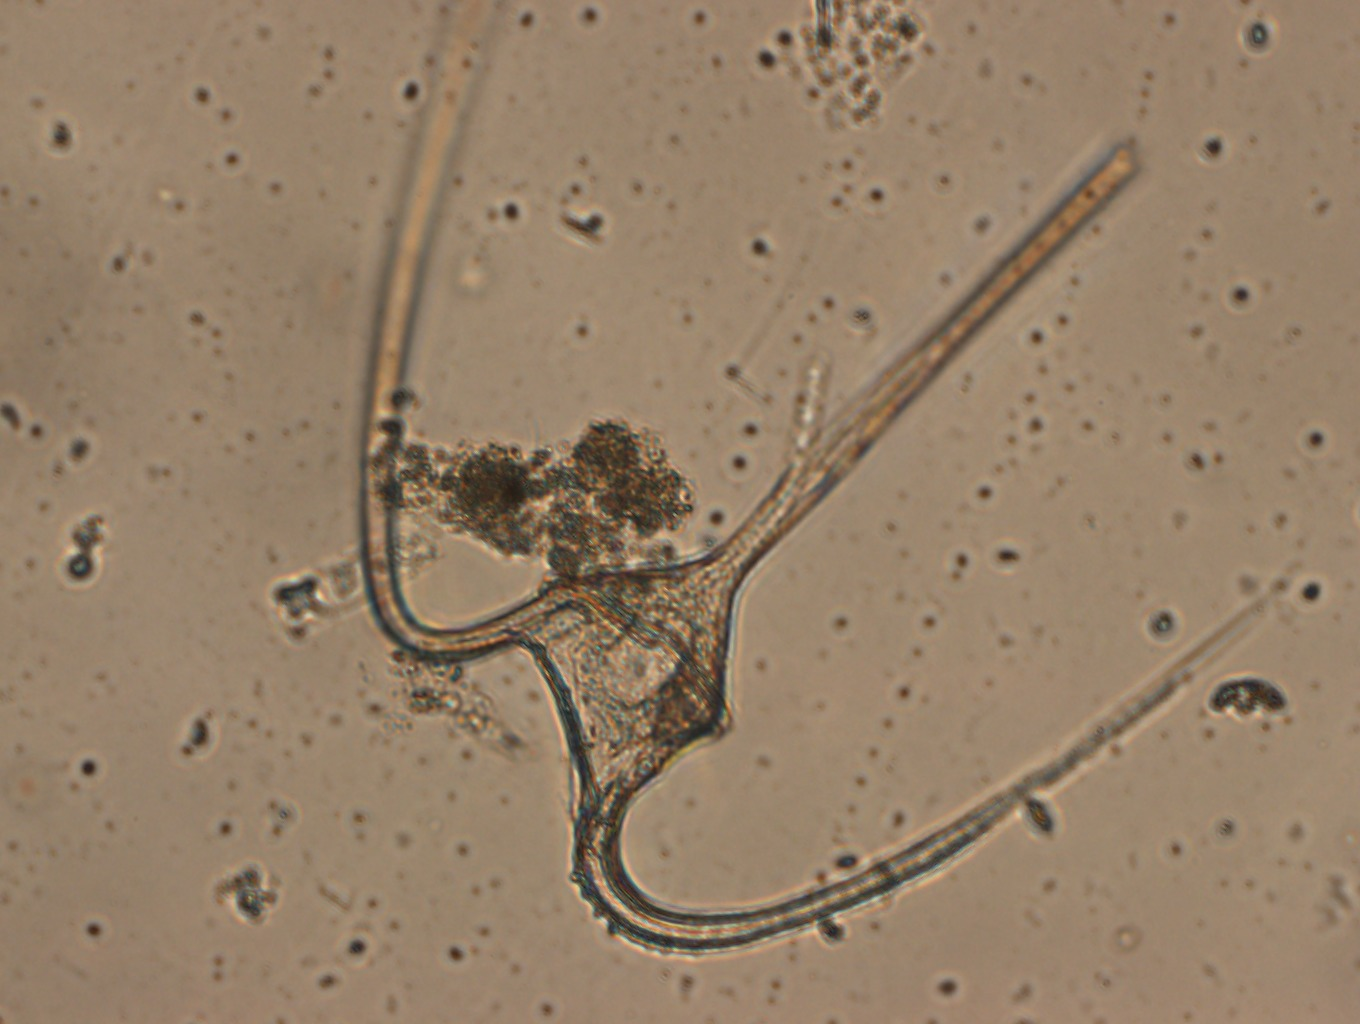ceratium trichoceros: (359, 1, 1249, 951)
